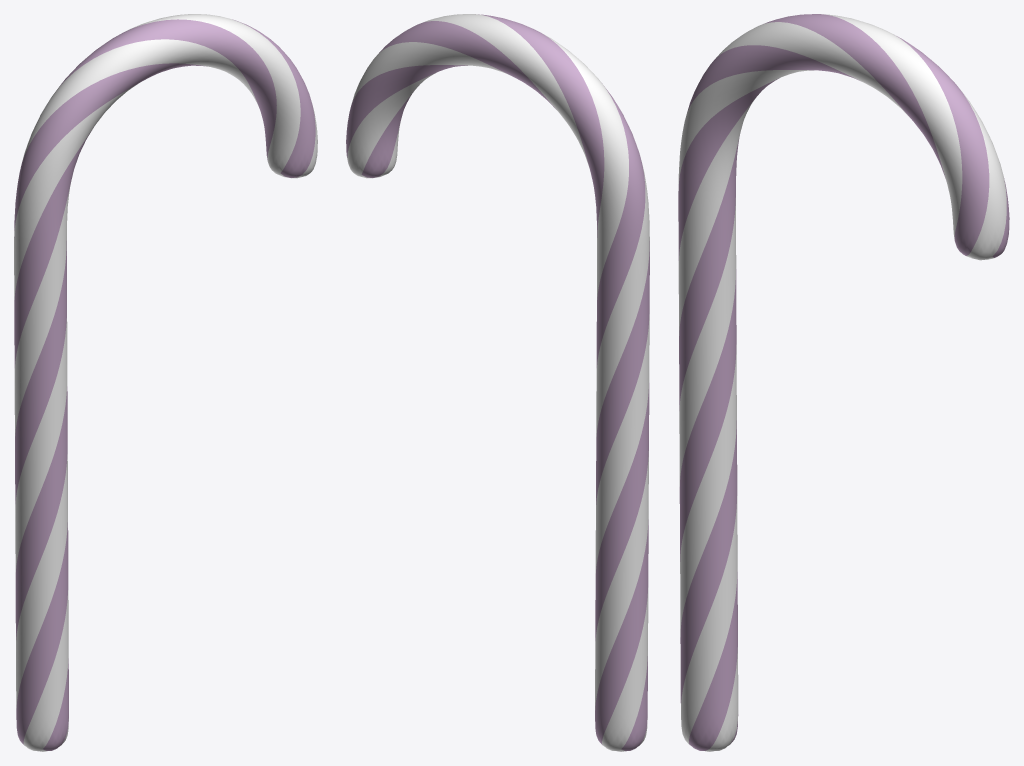
The model's file is purplecandycane.gltf.
The picture shows the model from 3 angles, left to right: view 1: azimuth 30°, elevation 25°; view 2: azimuth 150°, elevation 25°; view 3: azimuth 330°, elevation 25°; orthographic projection. The views are drawn at different scales.
Visible parts, largest first — view 1: Circle.001; view 2: Circle.001; view 3: Circle.001.
Part boxes in pixels (<box>): Circle.001: <box>14,14,317,751</box>; Circle.001: <box>346,14,649,751</box>; Circle.001: <box>678,14,1009,751</box>.
Size of the model in its own units: 2.34 by 5.25 by 0.3596.
